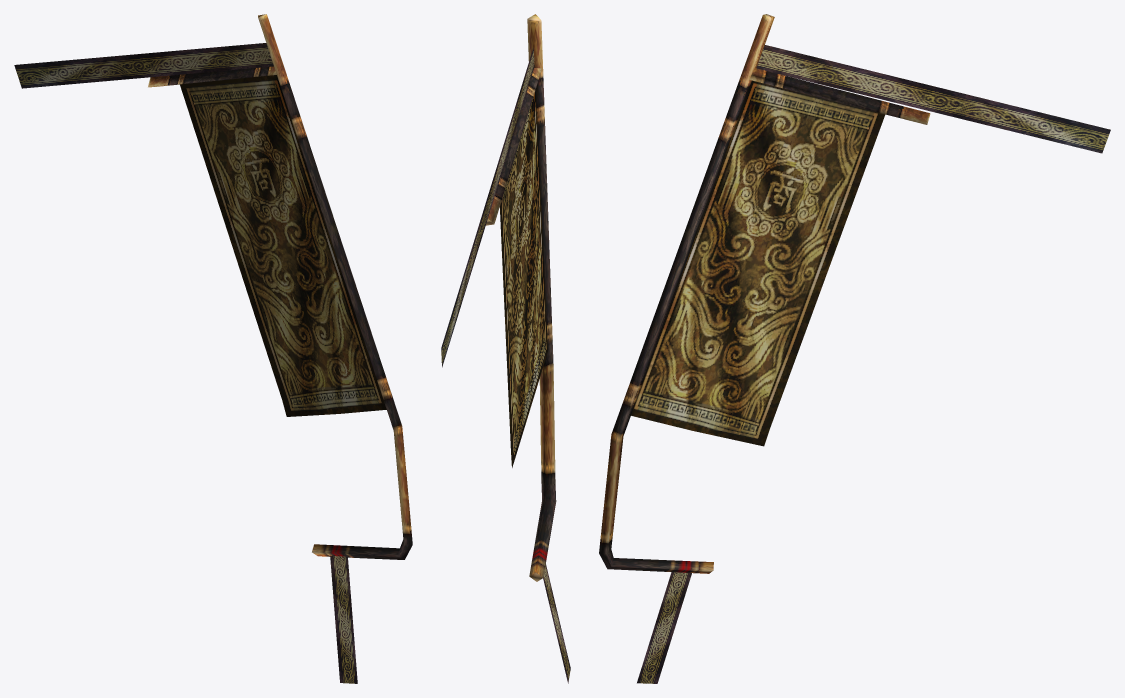
File: trader_02.glb
The picture shows the model from 3 angles, left to right: view 1: azimuth 30°, elevation 25°; view 2: azimuth 150°, elevation 25°; view 3: azimuth 270°, elevation 25°; orthographic projection. The views are drawn at different scales.
Parts seen in each view (by area): view 1: trader_02; view 2: trader_02; view 3: trader_02.
Part boxes in pixels (box(x1,y1,x2,y2)): trader_02: box(14, 14, 412, 683); trader_02: box(441, 14, 570, 683); trader_02: box(599, 14, 1110, 683).
Size of the model in its own units: 0.3305 by 1.3 by 0.9156.
1 material, 1 textured.
